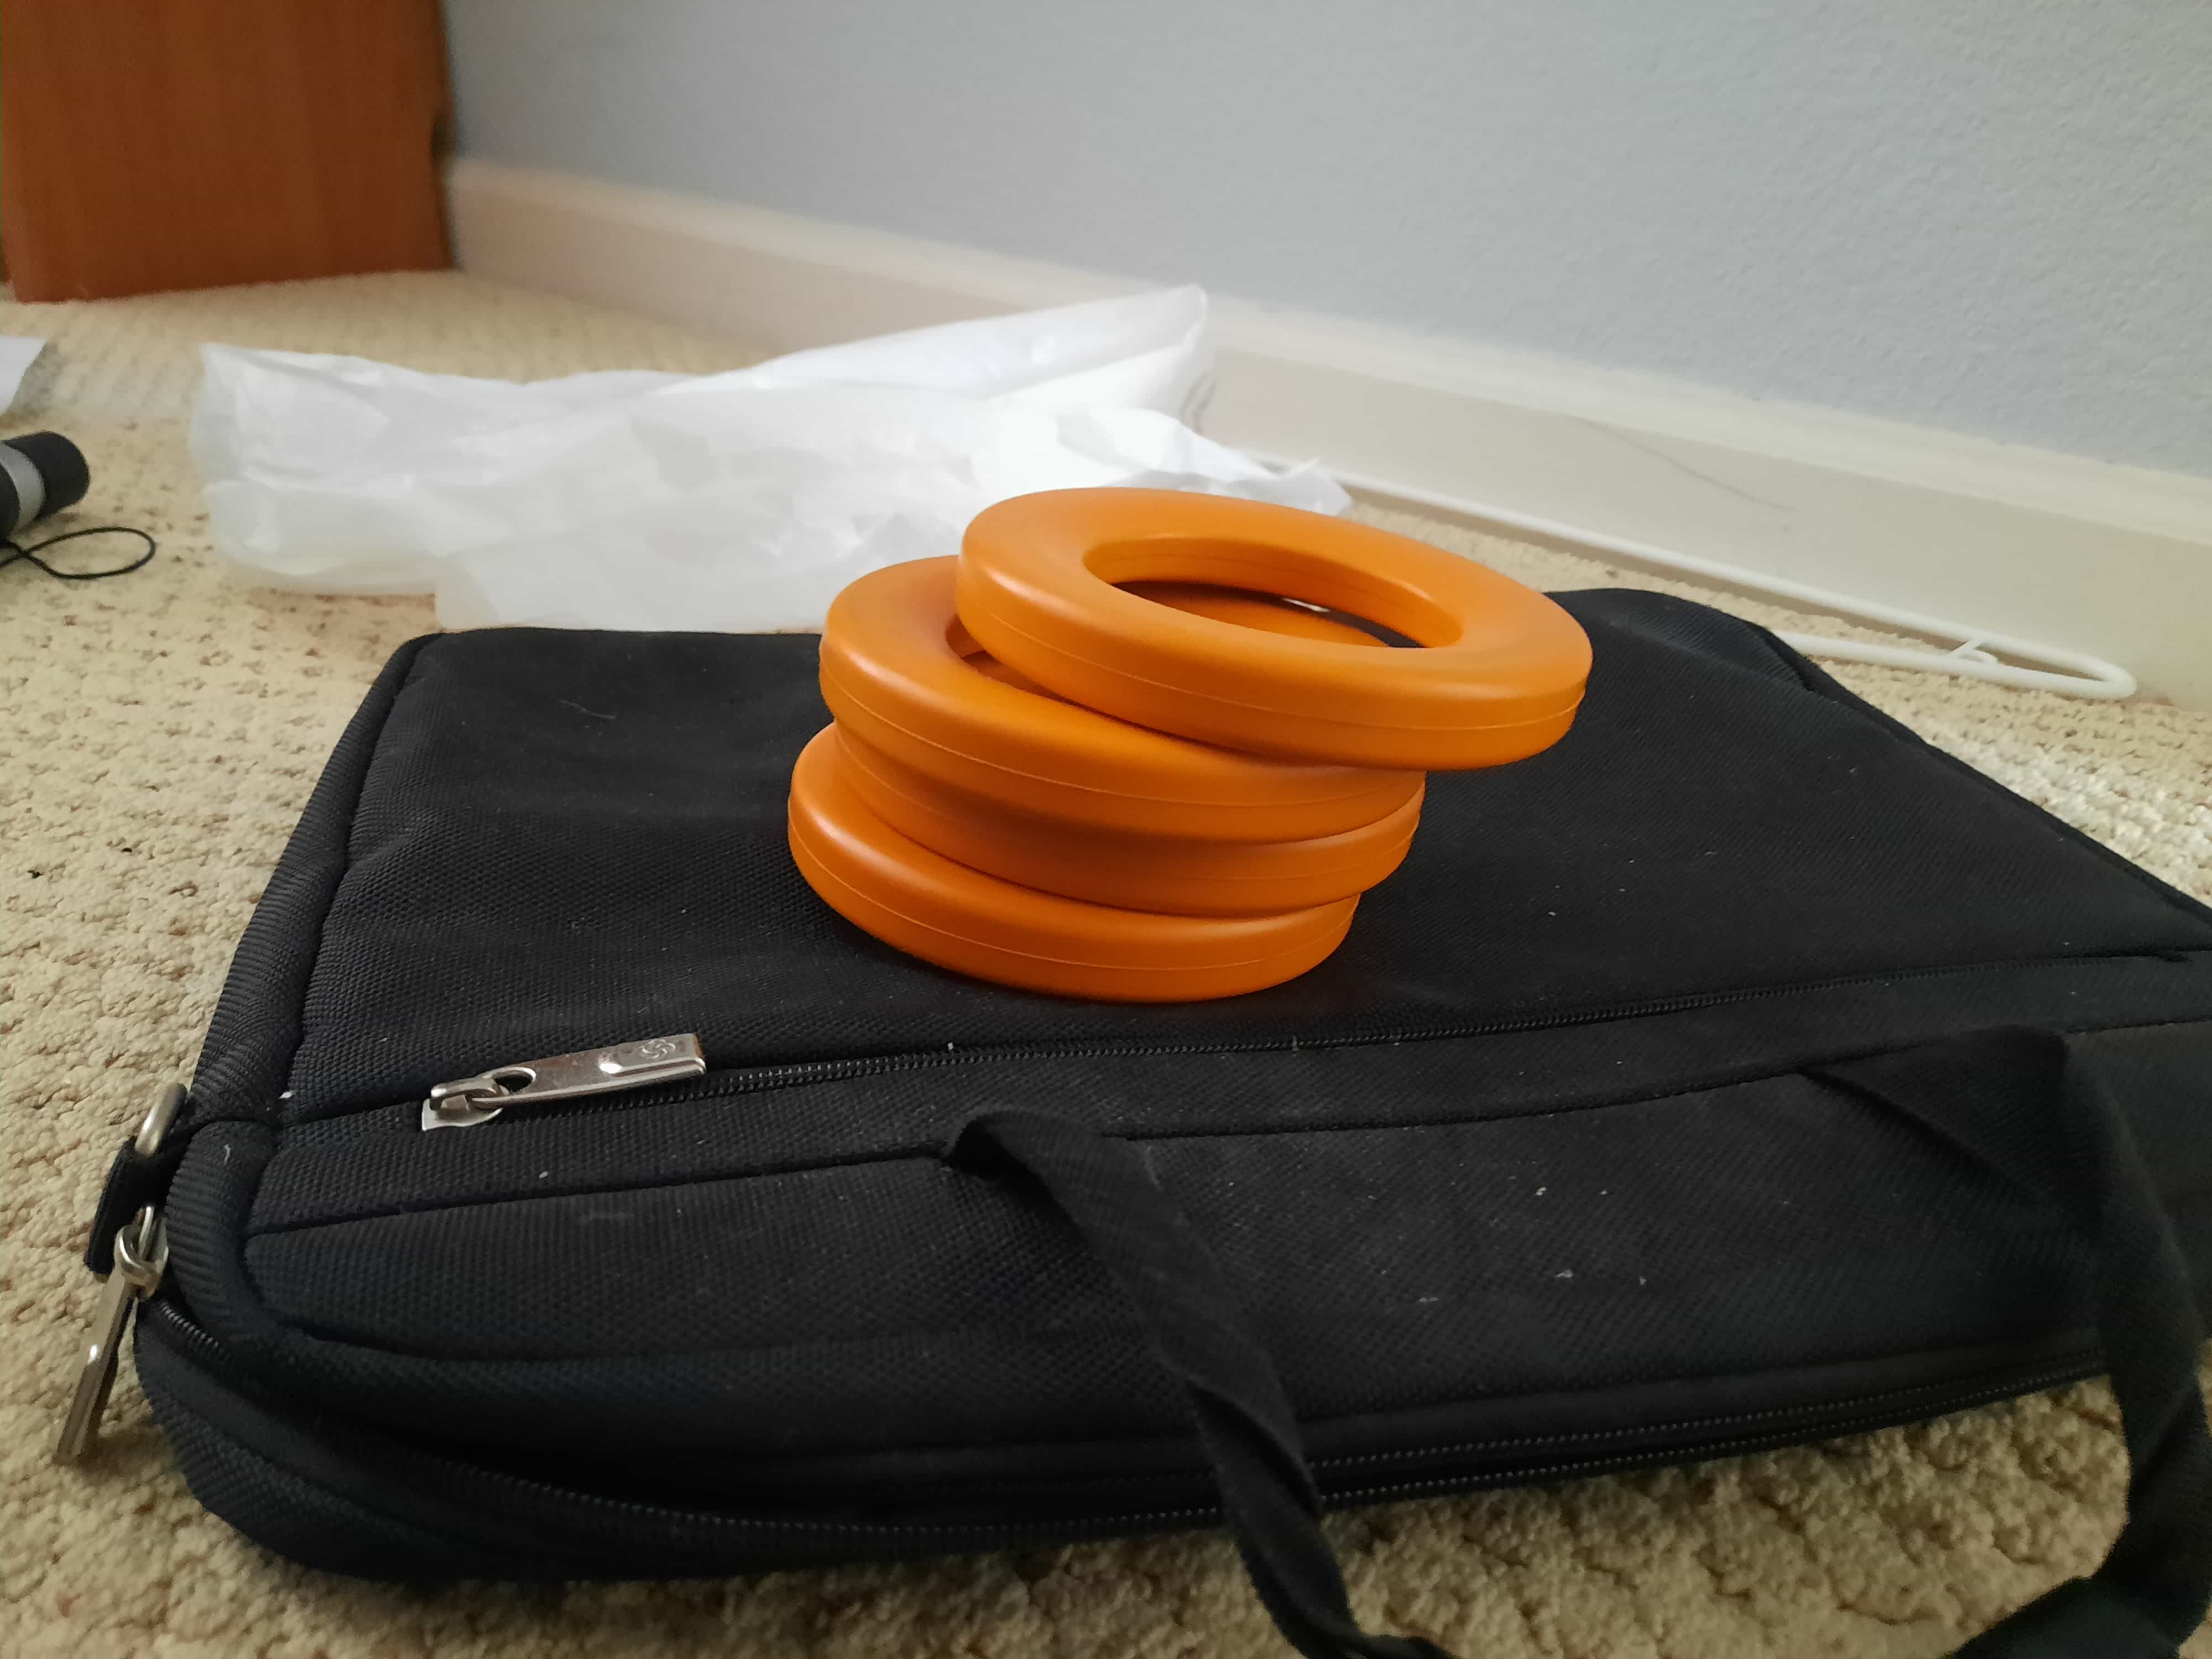FourStack: (773, 477, 1592, 986)
